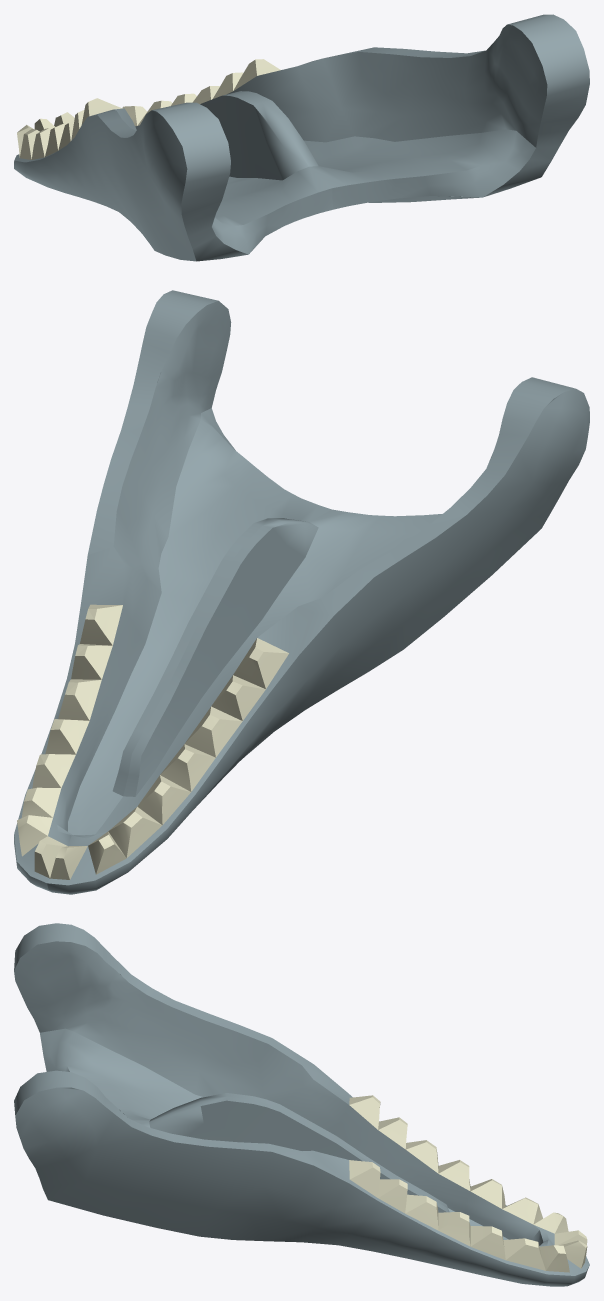
Rendered from Boca.obj.
3 views of the same model, one above another, from view 1: azimuth 30°, elevation 25°; view 2: azimuth 150°, elevation 25°; view 3: azimuth 270°, elevation 25° (orthographic). The views are drawn at different scales.
Visible parts, largest first — view 1: Mosasaurs:polySurface6 Mosasaurs:polySurface5 Mosasaurs:Mesh; view 2: Mosasaurs:polySurface6 Mosasaurs:polySurface5 Mosasaurs:Mesh; view 3: Mosasaurs:polySurface6 Mosasaurs:polySurface5 Mosasaurs:Mesh.
Part boxes in pixels (x1,y1,x2,y2): Mosasaurs:polySurface6 Mosasaurs:polySurface5 Mosasaurs:Mesh: (14, 14, 589, 261); Mosasaurs:polySurface6 Mosasaurs:polySurface5 Mosasaurs:Mesh: (14, 290, 589, 894); Mosasaurs:polySurface6 Mosasaurs:polySurface5 Mosasaurs:Mesh: (14, 923, 589, 1286).
Size of the model in its own units: 2.8 by 2.1 by 4.02.
Materials: 1 (1 with a texture image).
